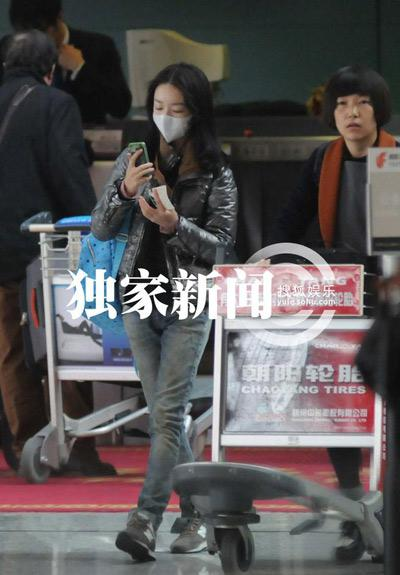NONE: (337, 99, 375, 140)
OK: (153, 99, 193, 141)
